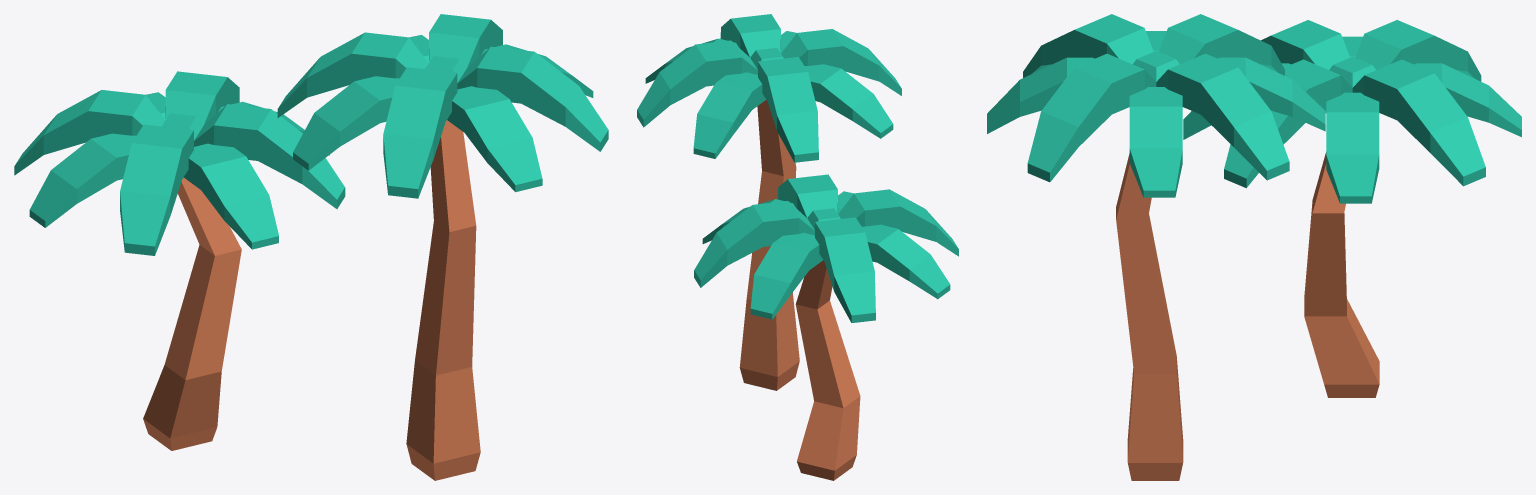
The model's file is Trees_Palm_1.fbx.
3 views of the same model, side by side, from view 1: azimuth 30°, elevation 25°; view 2: azimuth 150°, elevation 25°; view 3: azimuth 270°, elevation 25° (orthographic). The views are drawn at different scales.
Parts seen in each view (by area): view 1: tree_palmDetailedTall, tree_palmDetailedShort; view 2: tree_palmDetailedShort, tree_palmDetailedTall; view 3: tree_palmDetailedTall, tree_palmDetailedShort.
Boxes of the visible parts, x1,y1,x2,y2 form: tree_palmDetailedTall: [277, 14, 608, 480]; tree_palmDetailedShort: [14, 71, 345, 450]; tree_palmDetailedShort: [694, 174, 958, 480]; tree_palmDetailedTall: [637, 14, 901, 390]; tree_palmDetailedTall: [987, 14, 1325, 480]; tree_palmDetailedShort: [1183, 20, 1521, 397].
Bounding box in the file's own units: 16.34 × 14.23 × 16.34.
